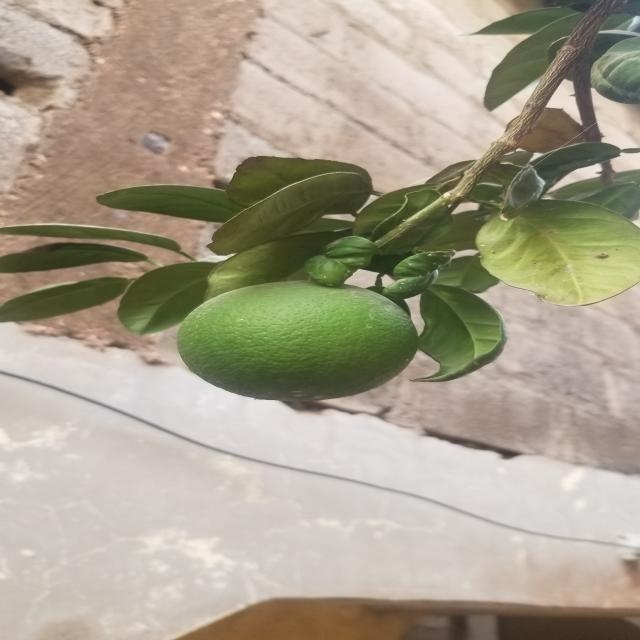agrume: (167, 273, 431, 416)
